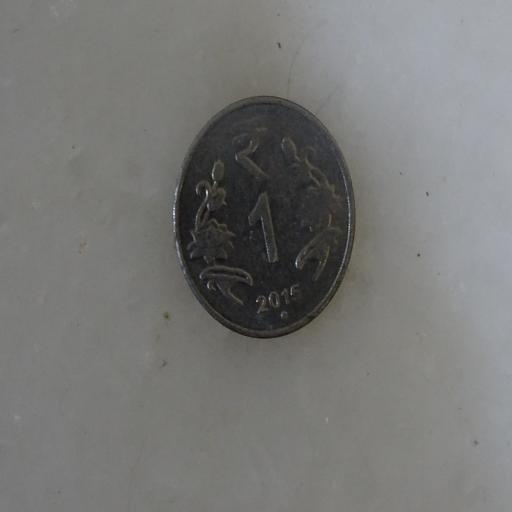rupee1: (166, 90, 359, 343)
